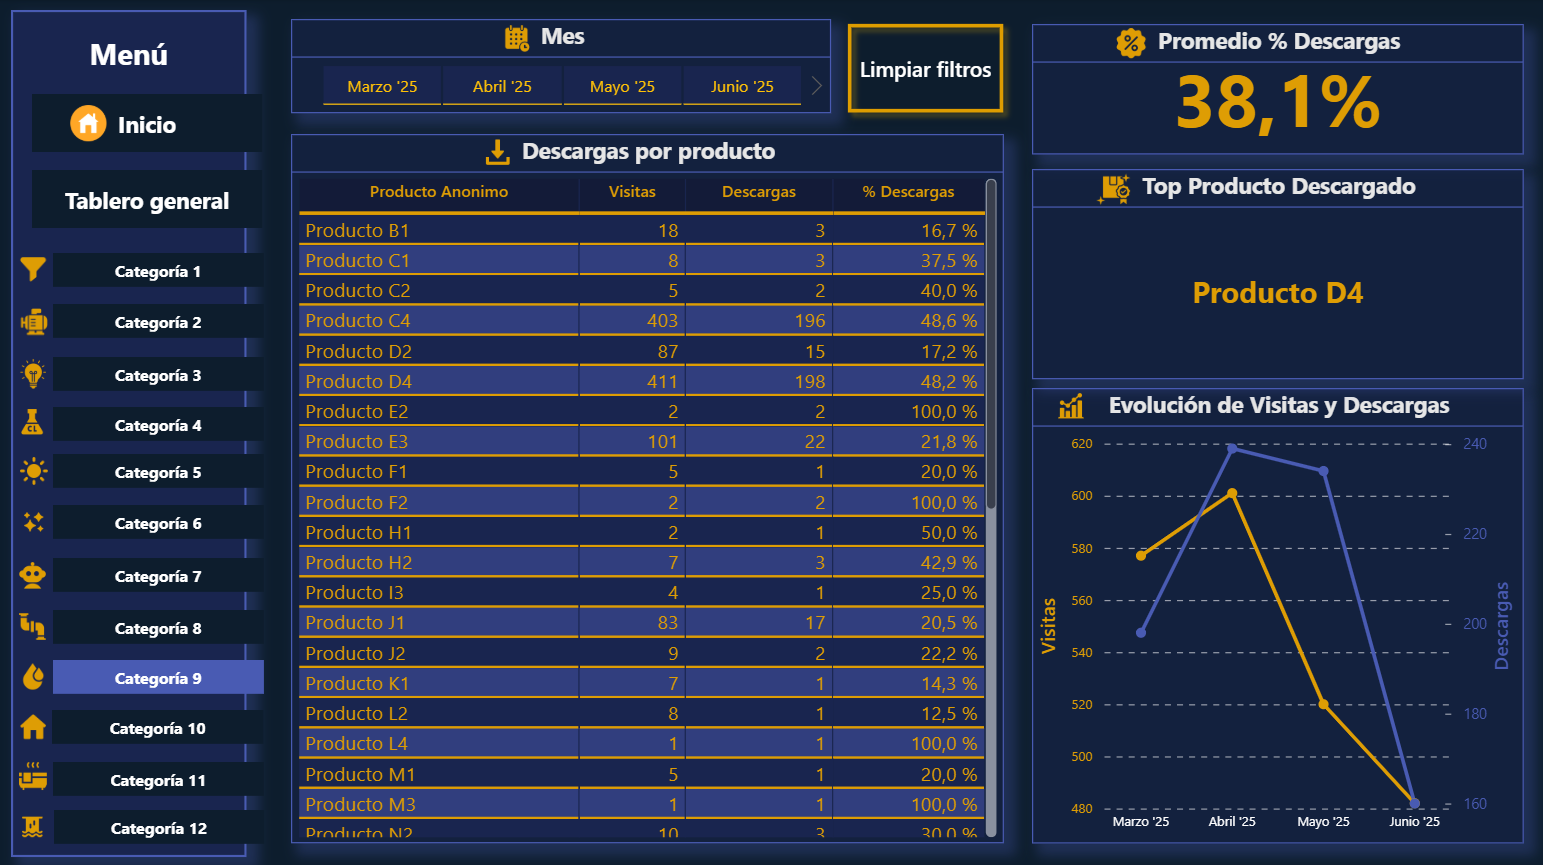

The page's visual inventory and layout, read from the dashboard file:
{"tool":"powerbi","page":{"name":"Tablero general","canvas":[1280,720],"ordinal":1},"visuals":[{"type":"shape","box":[9,9,195.1,701.5],"z":0},{"type":"shape","box":[26.8,78.3,190.6,48.5],"z":1000},{"type":"shape","box":[15.5,24.5,181.8,40],"z":2000},{"type":"shape","box":[26.8,141.4,190.6,48.5],"z":3000},{"type":"image","box":[52,83,42,40],"z":4000},{"type":"clusteredBarChart","title":"Top 5 Descargas por Categoría","fields":{"Category":["Parametros_Clasificacion_csv.Categoria"],"Y":["Medidas.Descargas"]},"box":[861.6,18,404.9,306.7],"z":5000},{"type":"barChart","title":"Top 10 Visitas por Categoría","fields":{"Category":["Parametros_Clasificacion_csv.Categoria"],"Y":["Medidas.Visitas"]},"box":[861.6,349.6,404.9,349.6],"z":6000},{"type":"slicer","title":"Mes","fields":{"Values":["Tabla_Meses_Orden.Mes"]},"box":[241.2,16.5,447.4,77.8],"z":7000},{"type":"tableEx","title":"Resumen General","fields":{"Values":["Parametros_Clasificacion_csv.Categoria","Medidas.Visitas","Medidas.Descargas","Medidas.% Descargas"]},"box":[241.2,111.9,589.4,278.2],"z":8000},{"type":"card","title":"Promedio % Desc.","fields":{"Values":["Medidas.% Descargas"]},"box":[646.8,404.6,183.8,108],"z":9000},{"type":"lineChart","title":"Evolución de Visitas y Descargas","fields":{"Y":["Medidas.Visitas"],"Category":["Tabla_Meses_Orden.Mes"],"Y2":["Medidas.Descargas"]},"box":[241.2,404.6,383.2,294.7],"z":10000},{"type":"card","title":"Top Producto Descargado","fields":{"Values":["Medidas.Producto Top Descargas"]},"box":[646.8,525.2,183.8,174.1],"z":11000},{"type":"actionButton","box":[692.4,11.3,146.6,91.3],"z":12000},{"type":"shape","box":[838.8,19.4,18.2,681.2],"z":13000},{"type":"image","box":[10,204,35,39],"z":14000},{"type":"image","box":[8,249,39,36],"z":15000},{"type":"image","box":[7.1,292.4,40.6,35.9],"z":16000},{"type":"image","box":[9.4,334.1,34.7,30.6],"z":17000},{"type":"image","box":[11.2,374.1,32.9,32.9],"z":18000},{"type":"image","box":[14.7,418.8,25.9,28.8],"z":19000},{"type":"image","box":[10,460.6,33.5,32.4],"z":20000},{"type":"image","box":[10.6,502.4,32.4,34.1],"z":21000},{"type":"image","box":[11.3,544.7,32,32.7],"z":22000},{"type":"image","box":[10,586.7,34,31.3],"z":23000},{"type":"image","box":[10.7,625.3,32.7,34.7],"z":24000},{"type":"image","box":[13.3,668.7,27.3,32.7],"z":25000},{"type":"image","box":[411.8,16.5,31.8,32.4],"z":26000},{"type":"image","box":[642.5,535.3,41.2,40],"z":27000},{"type":"image","box":[251,405,33,31],"z":28000},{"type":"image","box":[896,19,35,29],"z":29000},{"type":"image","box":[903,350,35,29],"z":30000},{"type":"shape","box":[43.6,210,174.5,28.2],"z":31000},{"type":"shape","box":[43.6,252.7,174.5,28.2],"z":32000},{"type":"shape","box":[43.6,296.4,174.5,28.2],"z":33000},{"type":"shape","box":[43.6,337.3,174.5,28.2],"z":34000},{"type":"shape","box":[43.6,376.4,174.5,28.2],"z":35000},{"type":"shape","box":[43.6,419.1,174.5,28.2],"z":36000},{"type":"shape","box":[43.6,462.7,174.5,28.2],"z":37000},{"type":"shape","box":[43.6,505.5,174.5,28.2],"z":38000},{"type":"shape","box":[43.6,547.3,174.5,28.2],"z":39000},{"type":"shape","box":[43.3,588.3,175,28.3],"z":40000},{"type":"shape","box":[43.6,631.8,174.5,28.2],"z":41000},{"type":"shape","box":[45,671,174,28],"z":42000}]}

Visuals, with their boxes in screenshot pixels (x1, y1, x2, y2), scaled from the page's 1280x720 canvas onto the 1543x865 screenshot:
shape: [x1=11, y1=11, x2=246, y2=854]
shape: [x1=32, y1=94, x2=262, y2=152]
shape: [x1=19, y1=29, x2=238, y2=77]
shape: [x1=32, y1=170, x2=262, y2=228]
image: [x1=63, y1=100, x2=113, y2=148]
"Top 5 Descargas por Categoría" clusteredBarChart: [x1=1039, y1=22, x2=1527, y2=390]
"Top 10 Visitas por Categoría" barChart: [x1=1039, y1=420, x2=1527, y2=840]
"Mes" slicer: [x1=291, y1=20, x2=830, y2=113]
"Resumen General" tableEx: [x1=291, y1=134, x2=1001, y2=469]
"Promedio % Desc." card: [x1=780, y1=486, x2=1001, y2=616]
"Evolución de Visitas y Descargas" lineChart: [x1=291, y1=486, x2=753, y2=840]
"Top Producto Descargado" card: [x1=780, y1=631, x2=1001, y2=840]
actionButton: [x1=835, y1=14, x2=1011, y2=123]
shape: [x1=1011, y1=23, x2=1033, y2=842]
image: [x1=12, y1=245, x2=54, y2=292]
image: [x1=10, y1=299, x2=57, y2=342]
image: [x1=9, y1=351, x2=58, y2=394]
image: [x1=11, y1=401, x2=53, y2=438]
image: [x1=14, y1=449, x2=53, y2=489]
image: [x1=18, y1=503, x2=49, y2=538]
image: [x1=12, y1=553, x2=52, y2=592]
image: [x1=13, y1=604, x2=52, y2=645]
image: [x1=14, y1=654, x2=52, y2=694]
image: [x1=12, y1=705, x2=53, y2=742]
image: [x1=13, y1=751, x2=52, y2=793]
image: [x1=16, y1=803, x2=49, y2=843]
image: [x1=496, y1=20, x2=535, y2=59]
image: [x1=775, y1=643, x2=824, y2=691]
image: [x1=303, y1=487, x2=342, y2=524]
image: [x1=1080, y1=23, x2=1122, y2=58]
image: [x1=1089, y1=420, x2=1131, y2=455]
shape: [x1=53, y1=252, x2=263, y2=286]
shape: [x1=53, y1=304, x2=263, y2=337]
shape: [x1=53, y1=356, x2=263, y2=390]
shape: [x1=53, y1=405, x2=263, y2=439]
shape: [x1=53, y1=452, x2=263, y2=486]
shape: [x1=53, y1=504, x2=263, y2=537]
shape: [x1=53, y1=556, x2=263, y2=590]
shape: [x1=53, y1=607, x2=263, y2=641]
shape: [x1=53, y1=658, x2=263, y2=691]
shape: [x1=52, y1=707, x2=263, y2=741]
shape: [x1=53, y1=759, x2=263, y2=793]
shape: [x1=54, y1=806, x2=264, y2=840]
